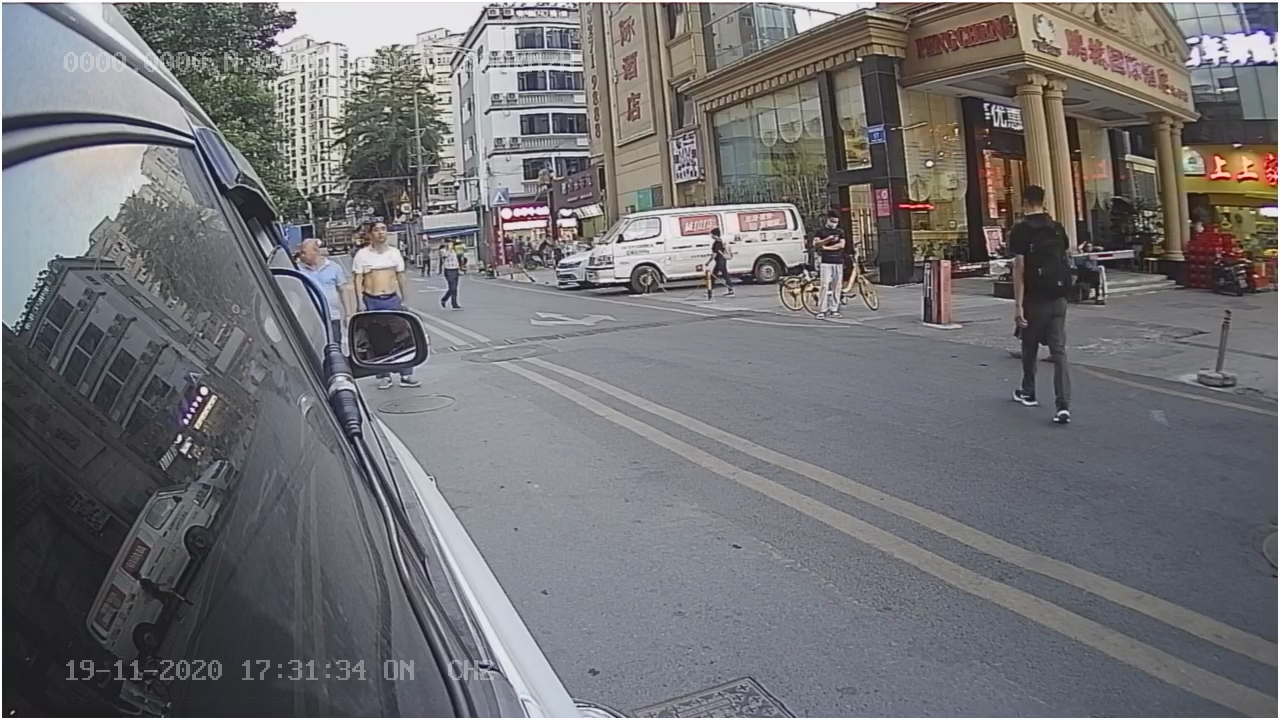person: (997, 189, 1081, 414)
